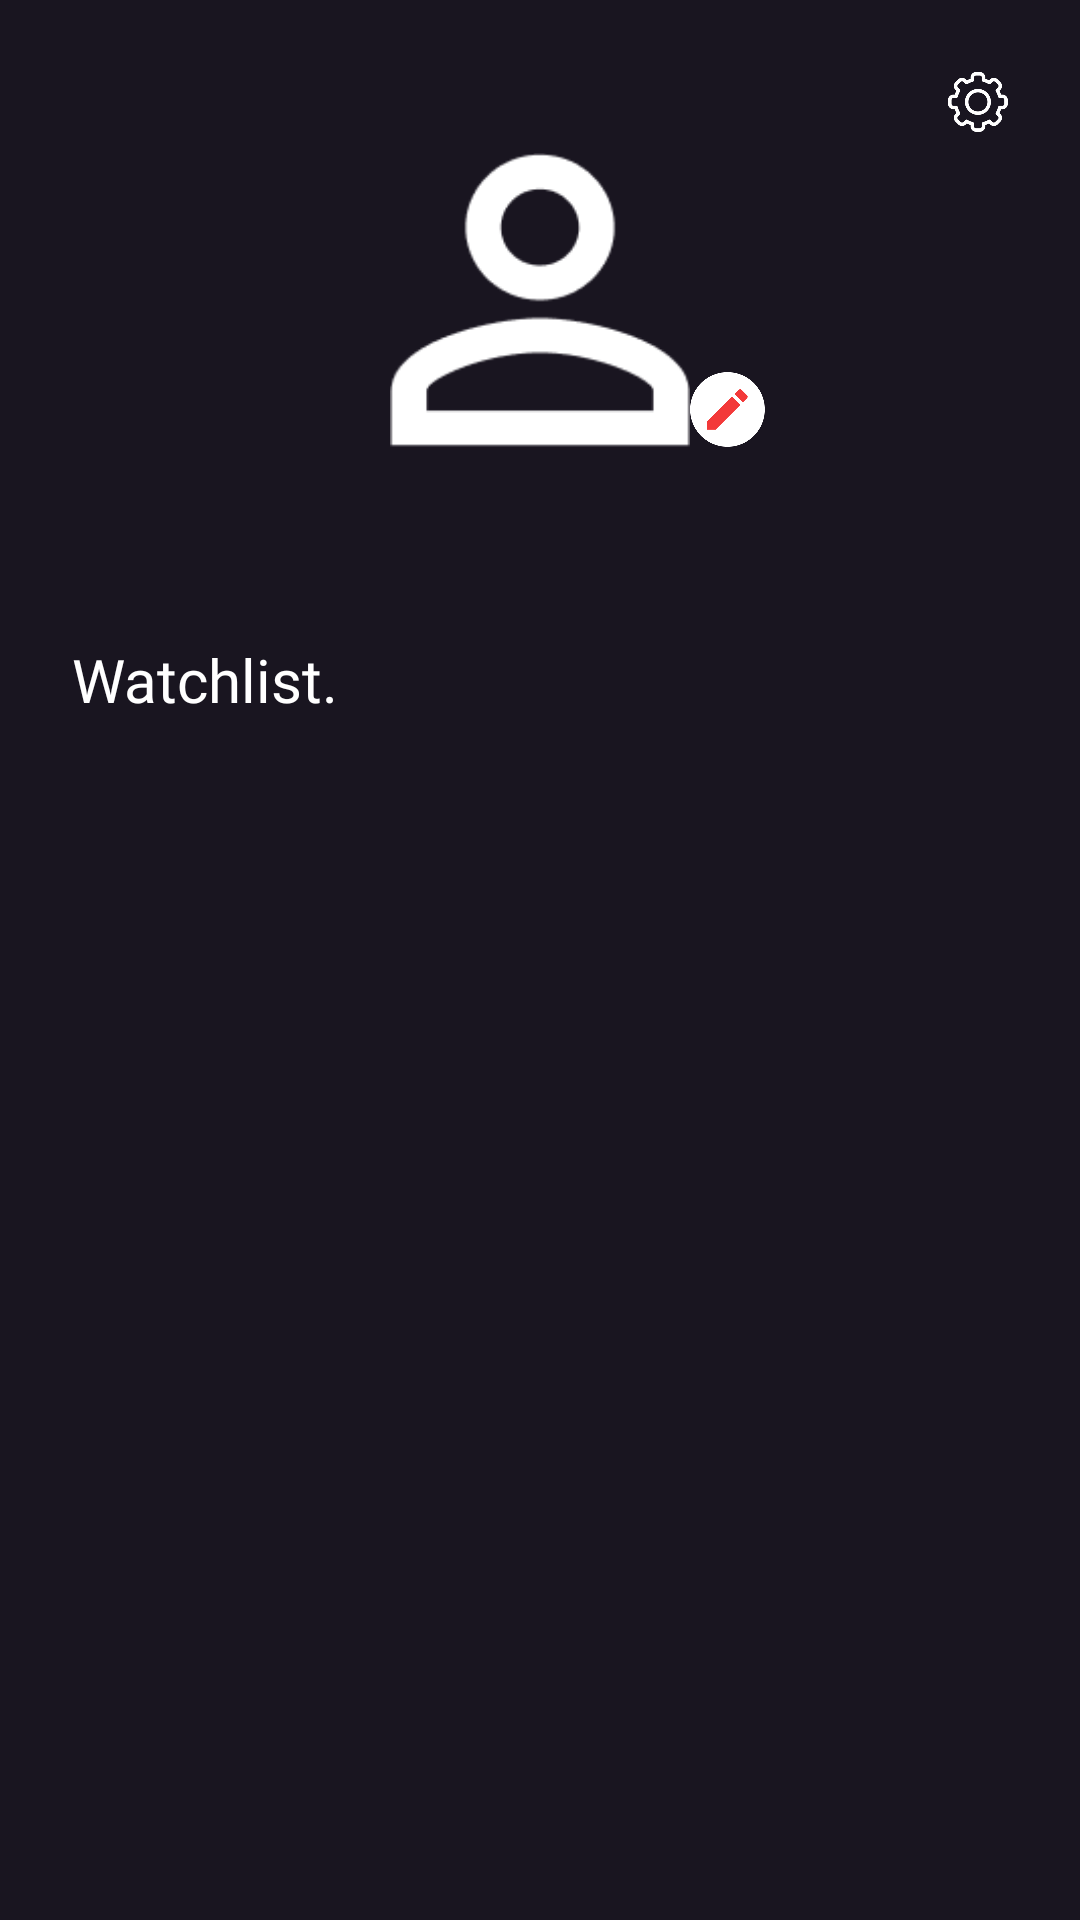

Screen size 1080px×1920px. Icon name, then its box in pixels as [left=x1, top=y1, right=x2, bottom=y2]:
config: [left=948, top=72, right=1008, bottom=132]
edit: [left=690, top=372, right=765, bottom=447]
profile: [left=390, top=153, right=690, bottom=447]
